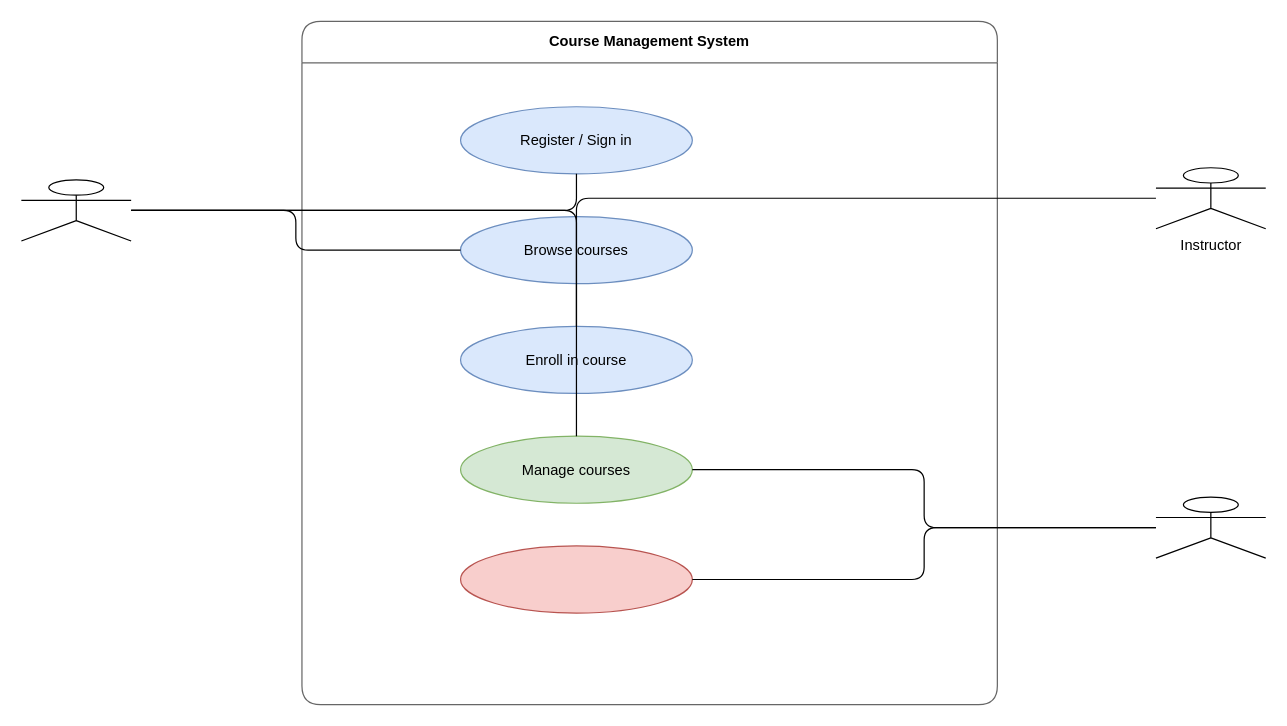
This 1287x726 diagram has some shape labels left out. Here are the shapes that lost their labels. From the top down, the centre of each, then its label:
At point 75,210: "Student".
At point 1210,527: "Admin".
At point 575,579: "Manage users".
